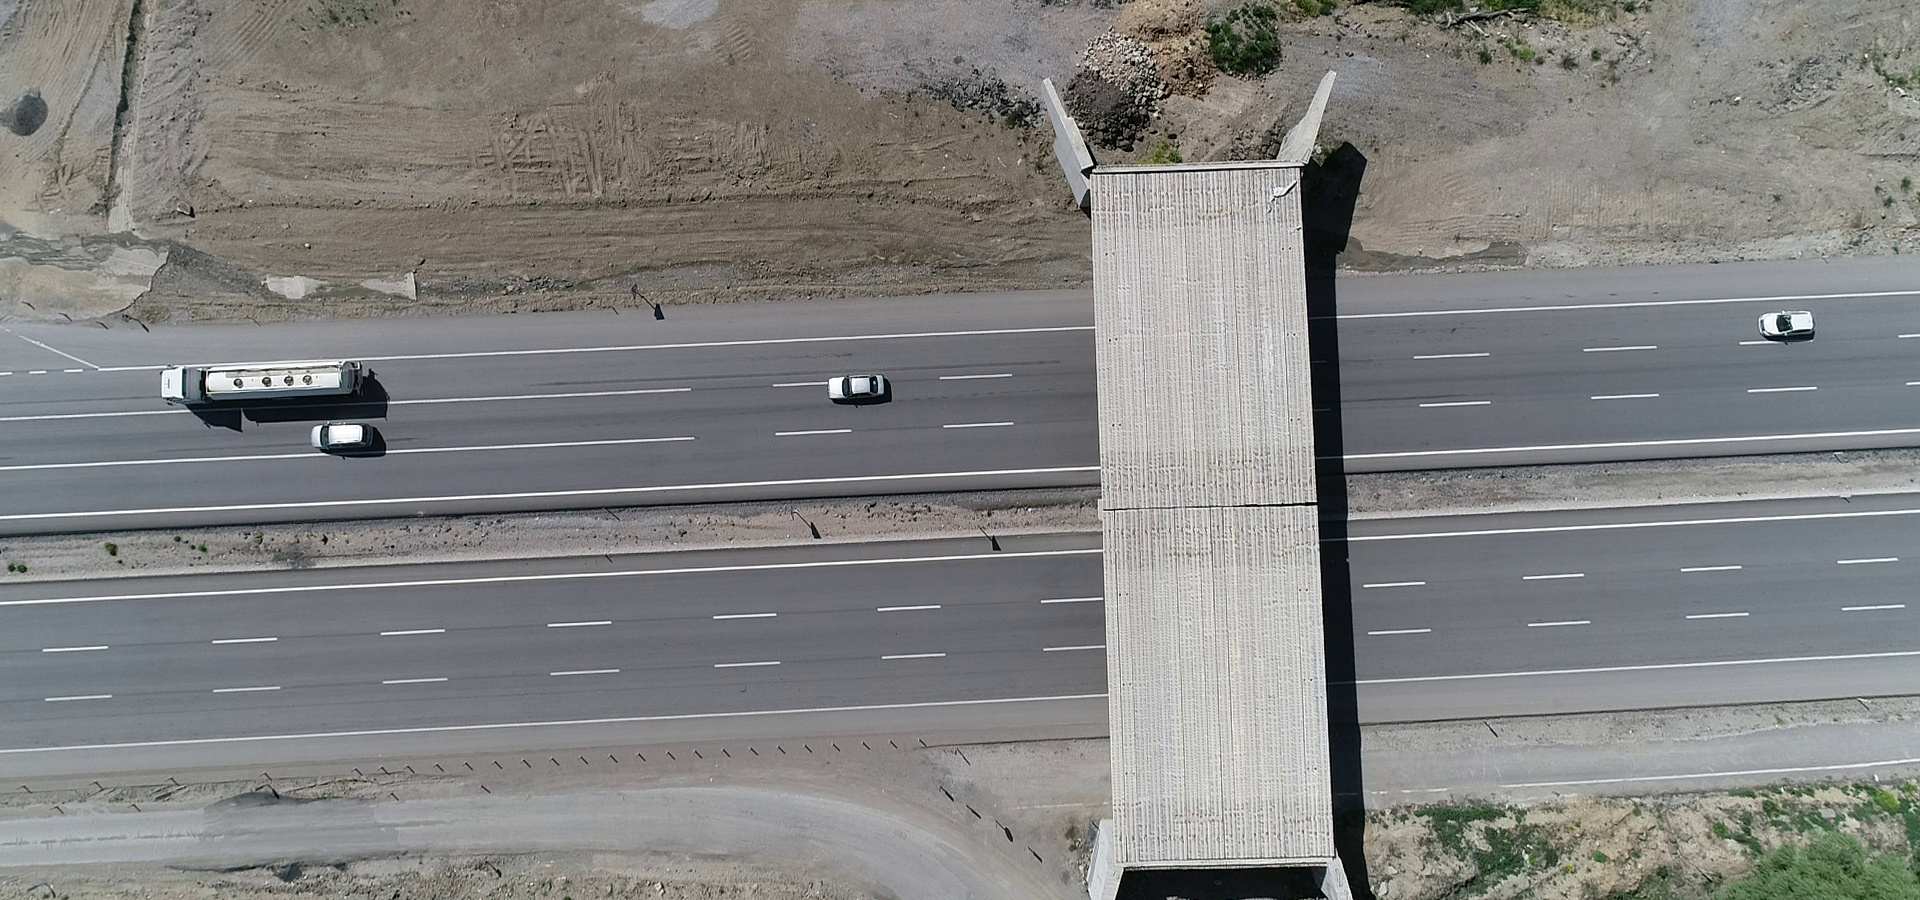arac: (148, 347, 378, 408), (300, 413, 387, 456), (820, 369, 898, 403), (1753, 306, 1832, 337)
